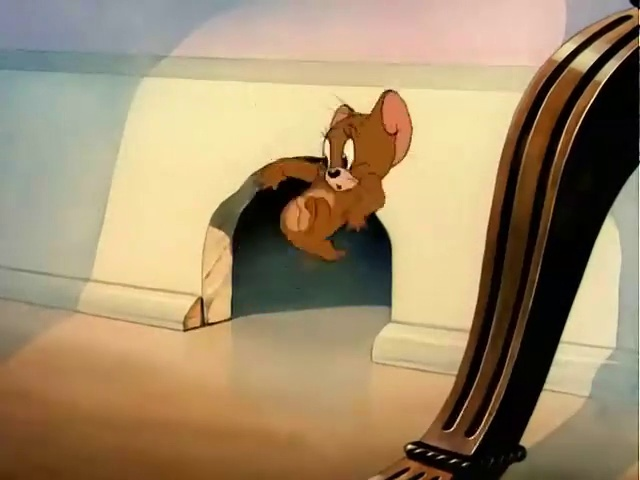jerry: (209, 86, 450, 284), (222, 80, 414, 286)
